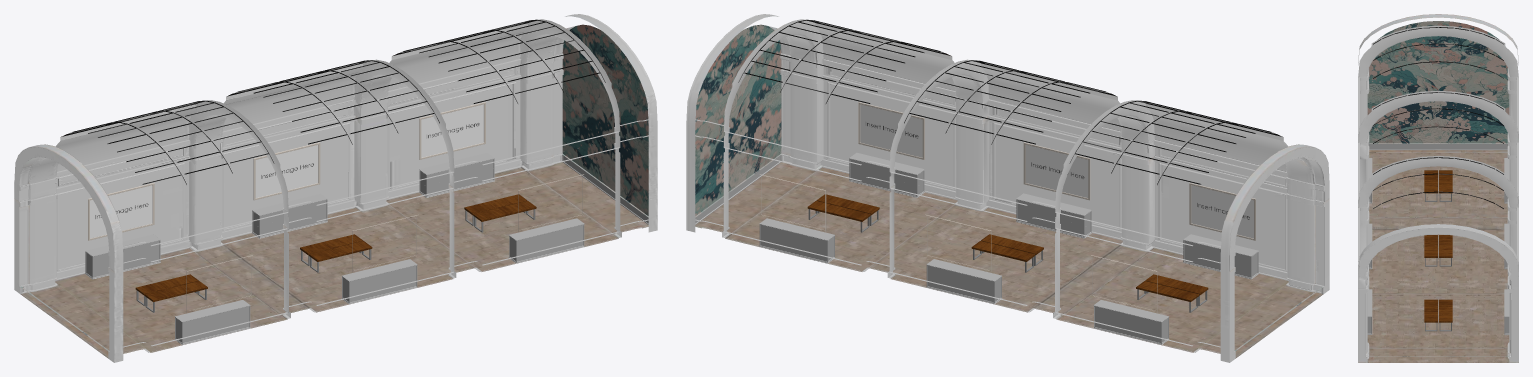
File: compressed_1742408192938_vrgallery.glb
3 views of the same model, side by side, from view 1: azimuth 30°, elevation 25°; view 2: azimuth 150°, elevation 25°; view 3: azimuth 270°, elevation 25° (orthographic). The views are drawn at different scales.
Parts seen in each view (by area): view 1: Gallery_Structure_0, Podiums_Podiums_0, Gallery_Backwall_0, Portraits_Portraits_0, Benches_Benches_0, Portraits_PaintingFrame_0, Benches_Chrome_0; view 2: Gallery_Structure_0, Podiums_Podiums_0, Gallery_Backwall_0, Portraits_Portraits_0, Benches_Benches_0, Portraits_PaintingFrame_0, Benches_Chrome_0; view 3: Gallery_Structure_0, Gallery_Backwall_0, Benches_Benches_0, Podiums_Podiums_0, Benches_Chrome_0.
Boxes of the visible parts, x1=… form: Gallery_Structure_0: x1=14, y1=14, x2=657, y2=362; Podiums_Podiums_0: x1=85, y1=152, x2=584, y2=344; Gallery_Backwall_0: x1=20, y1=24, x2=648, y2=354; Portraits_Portraits_0: x1=90, y1=104, x2=483, y2=238; Benches_Benches_0: x1=135, y1=194, x2=536, y2=302; Portraits_PaintingFrame_0: x1=88, y1=102, x2=583, y2=312; Benches_Chrome_0: x1=136, y1=209, x2=535, y2=312; Gallery_Structure_0: x1=686, y1=14, x2=1329, y2=362; Podiums_Podiums_0: x1=759, y1=152, x2=1258, y2=344; Gallery_Backwall_0: x1=695, y1=24, x2=1323, y2=354; Portraits_Portraits_0: x1=860, y1=104, x2=1253, y2=238; Benches_Benches_0: x1=807, y1=194, x2=1208, y2=301; Portraits_PaintingFrame_0: x1=760, y1=102, x2=1255, y2=312; Benches_Chrome_0: x1=808, y1=209, x2=1207, y2=312; Gallery_Structure_0: x1=1358, y1=14, x2=1518, y2=362; Gallery_Backwall_0: x1=1367, y1=21, x2=1509, y2=356; Benches_Benches_0: x1=1424, y1=170, x2=1452, y2=322; Podiums_Podiums_0: x1=1367, y1=158, x2=1509, y2=334; Benches_Chrome_0: x1=1425, y1=193, x2=1451, y2=331.
Bounding box in the file's own units: 49.21 × 14.94 × 15.65.
Materials: 7 (5 with a texture image).
